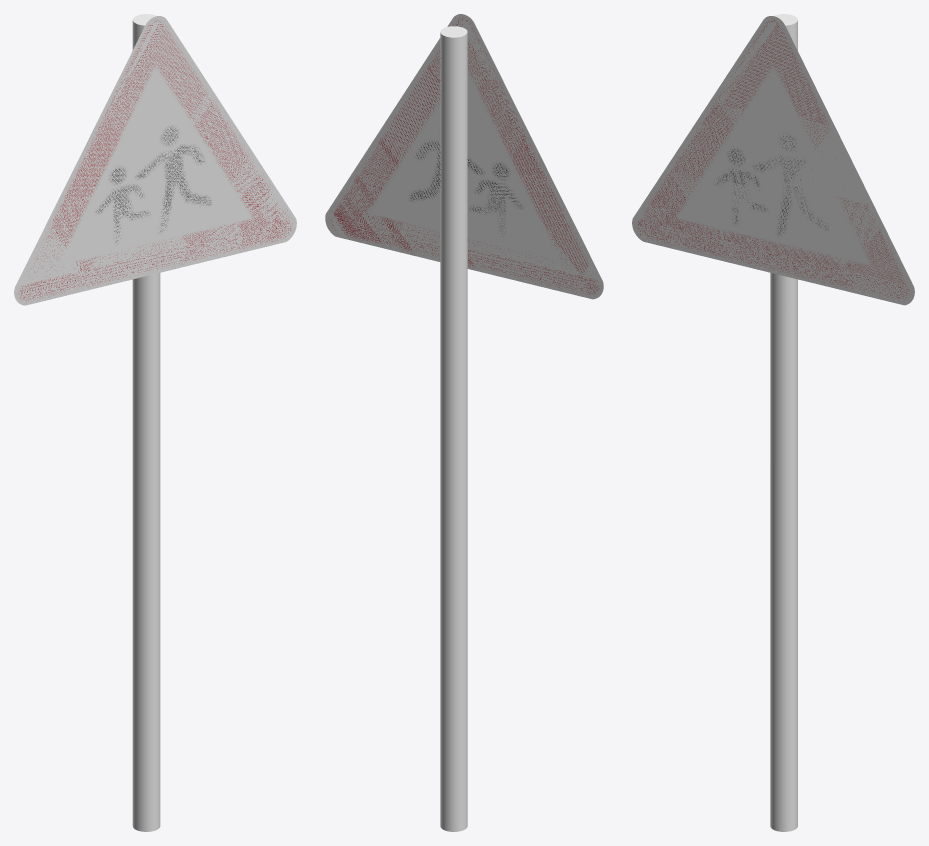
The picture shows the model from 3 angles, left to right: view 1: azimuth 30°, elevation 25°; view 2: azimuth 150°, elevation 25°; view 3: azimuth 330°, elevation 25°; orthographic projection.
Parts seen in each view (by area): view 1: SketchUp (×2); view 2: SketchUp (×2); view 3: SketchUp (×2).
Part boxes in pixels (<box>): SketchUp (×2): <box>14,14,296,831</box>; SketchUp (×2): <box>325,14,603,831</box>; SketchUp (×2): <box>632,14,914,831</box>.
Size of the model in its own units: 74.4 by 7.6 by 205.
Materials: 2 (1 with a texture image).
